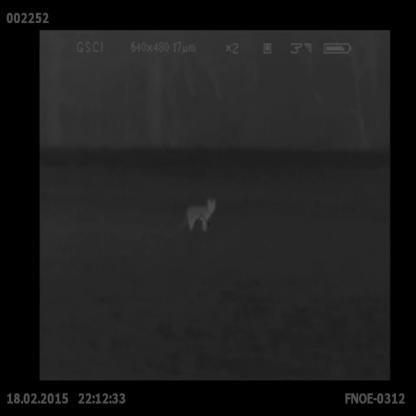rehkitze: (186, 198, 217, 233)
